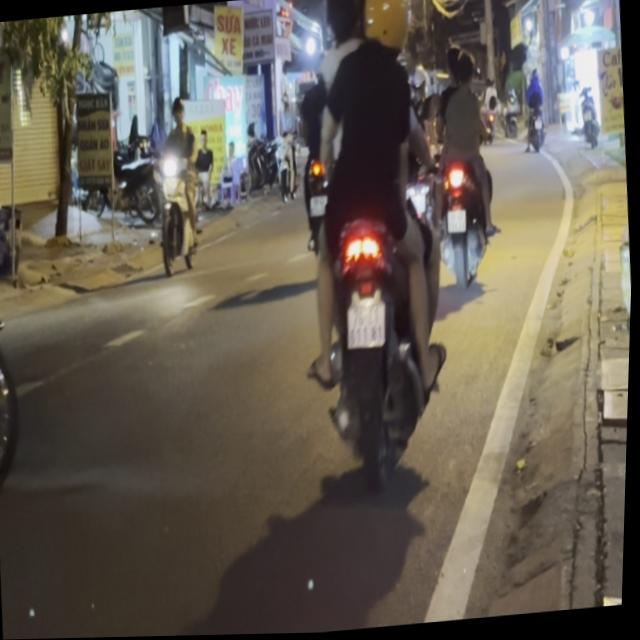helmet: (359, 0, 411, 58)
licenseplate: (279, 0, 466, 496), (423, 43, 506, 298), (0, 69, 38, 517)
motorcyclist: (320, 0, 363, 49), (452, 50, 477, 90)
nohelmet: (346, 299, 388, 349), (447, 211, 467, 235)
